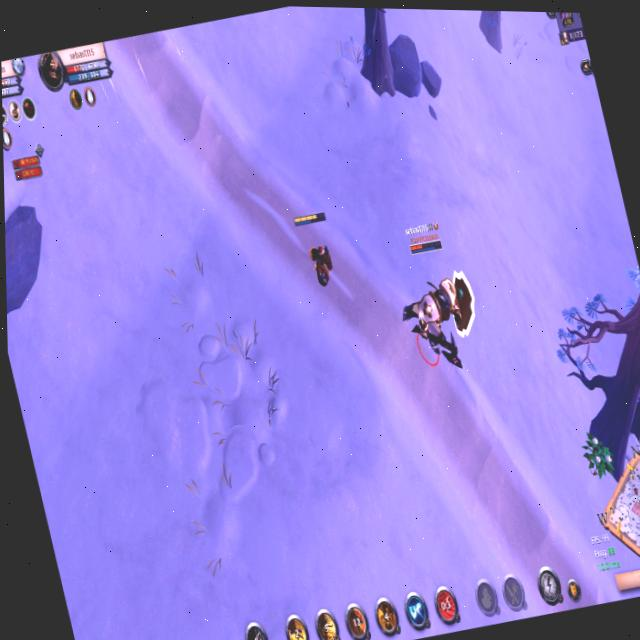hide: (574, 421, 621, 494)
red: (379, 205, 497, 395), (289, 204, 347, 297)
